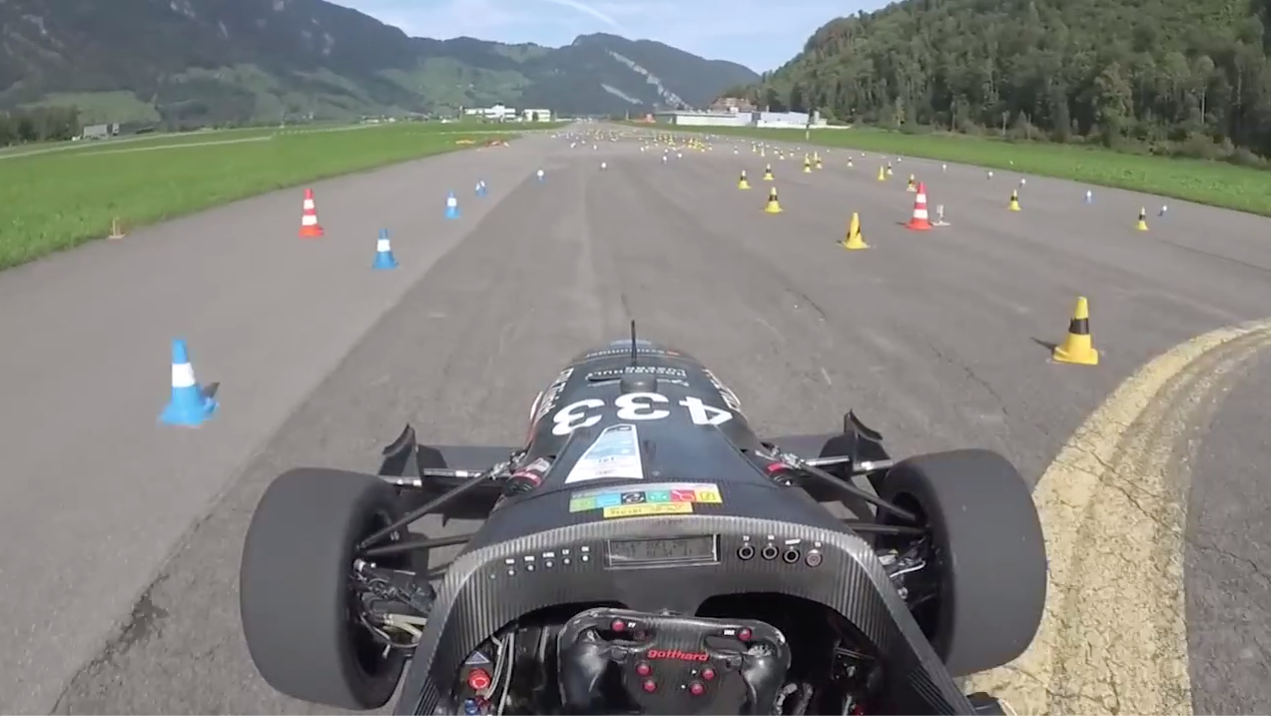lcone: (146, 331, 227, 433), (359, 224, 406, 276), (437, 187, 465, 222)
rcone: (1045, 293, 1108, 369), (838, 211, 874, 253), (761, 183, 789, 217)
